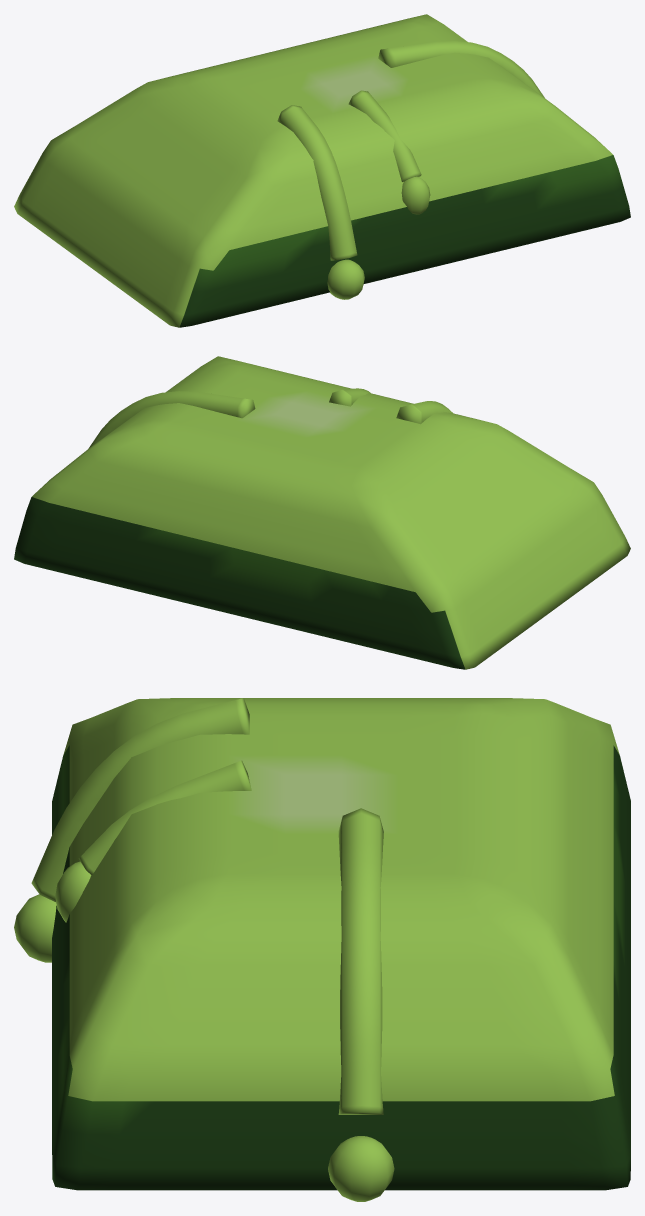
File: Bar_Goo.glb
3 views of the same model, one above another, from view 1: azimuth 30°, elevation 25°; view 2: azimuth 150°, elevation 25°; view 3: azimuth 270°, elevation 25° (orthographic). The views are drawn at different scales.
Parts seen in each view (by area): view 1: Bar_goo; view 2: Bar_goo; view 3: Bar_goo.
Boxes of the visible parts, box(x1,y1,x2,y2) form: Bar_goo: box(14, 14, 630, 327); Bar_goo: box(14, 356, 630, 669); Bar_goo: box(14, 698, 630, 1201).
Size of the model in its own units: 0.9656 by 0.296 by 0.6291.
